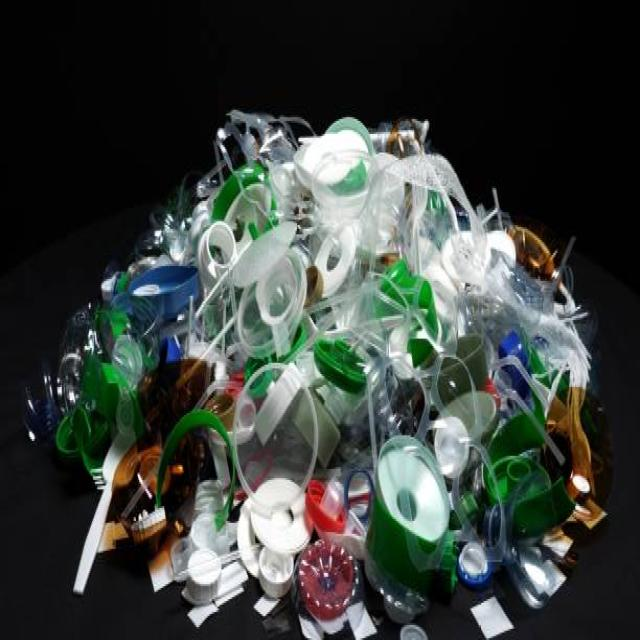plastic: (52, 114, 576, 606)
